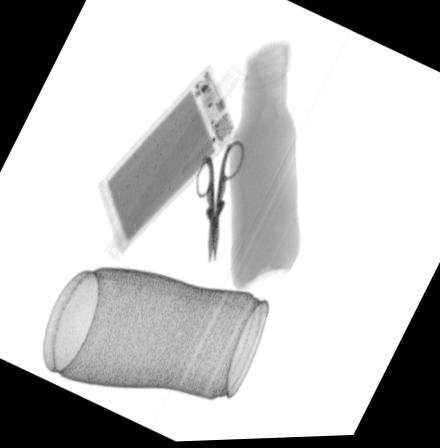Powerbank: (89, 64, 240, 257)
Scissors: (191, 139, 246, 270)
